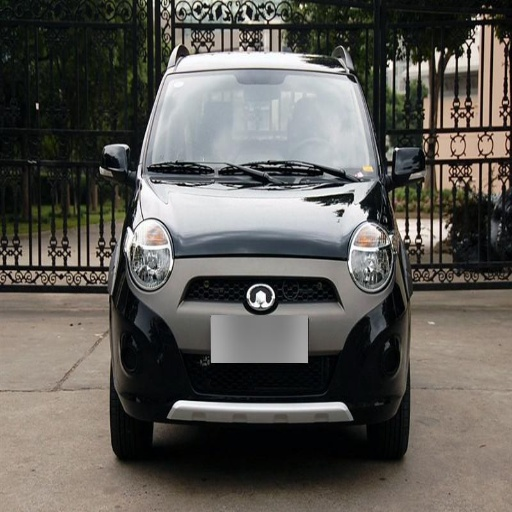front_bumper: (121, 257, 407, 422)
front_right_light: (124, 224, 171, 290)
hood: (141, 176, 387, 258)
left_mirror: (387, 147, 424, 188)
